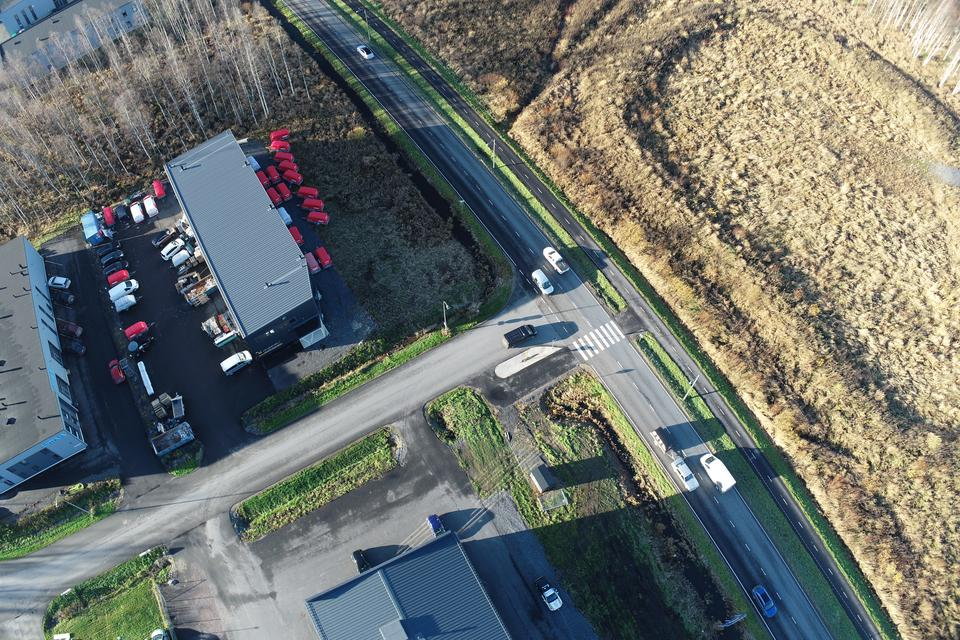intersection: (477, 254, 667, 468)
